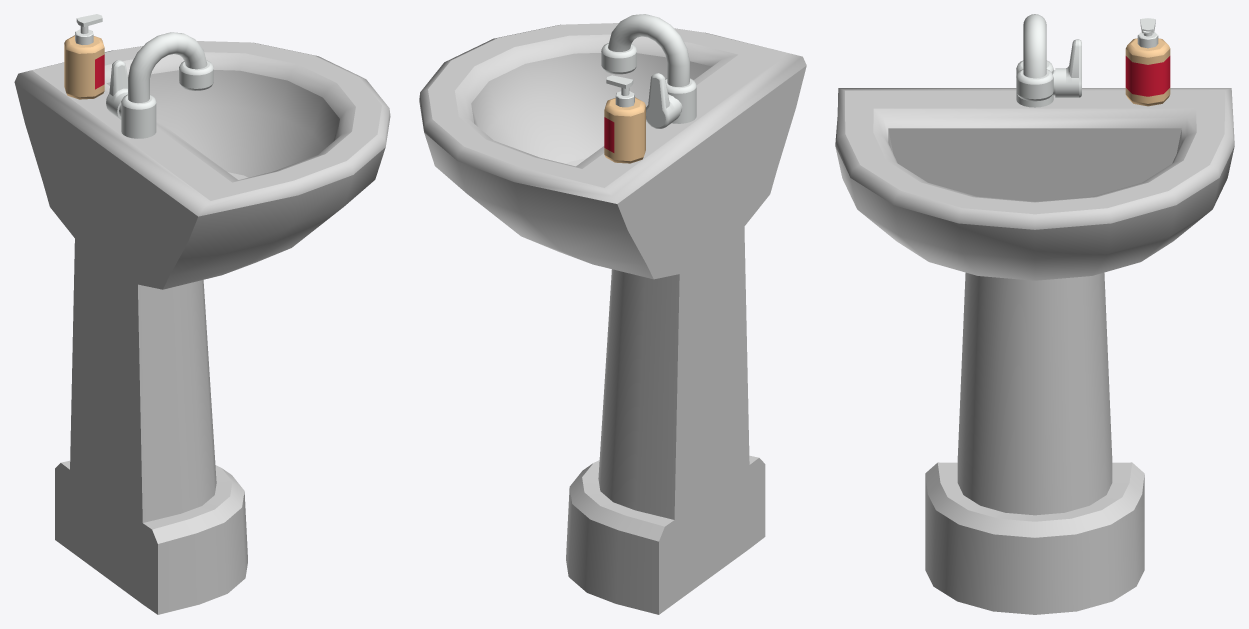
Rendered from Washbowl.glb.
The picture shows the model from 3 angles, left to right: view 1: azimuth 30°, elevation 25°; view 2: azimuth 150°, elevation 25°; view 3: azimuth 270°, elevation 25°; orthographic projection. The views are drawn at different scales.
Visible parts, largest first — view 1: Washbowl; view 2: Washbowl; view 3: Washbowl.
Boxes of the visible parts, x1,y1,x2,y2 form: Washbowl: (14,14,390,614); Washbowl: (419,14,806,614); Washbowl: (835,14,1234,614).
Bounding box in the file's own units: 0.4234 × 0.8206 × 0.5283.
Materials: 3 (2 with a texture image).
